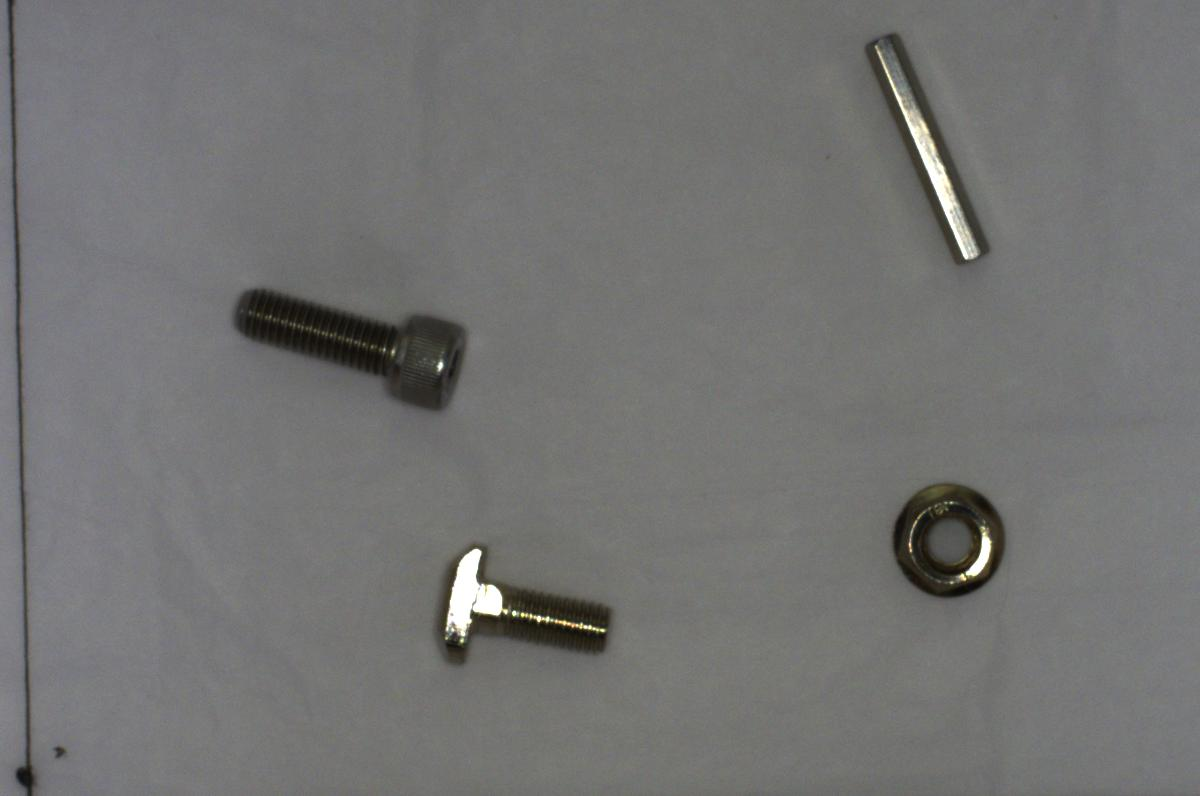Double hexagonal column: (854, 23, 1006, 274)
Flange nut: (881, 475, 1017, 603)
Hexagon screw: (221, 274, 473, 423)
T-shaped screw: (428, 535, 624, 679)
